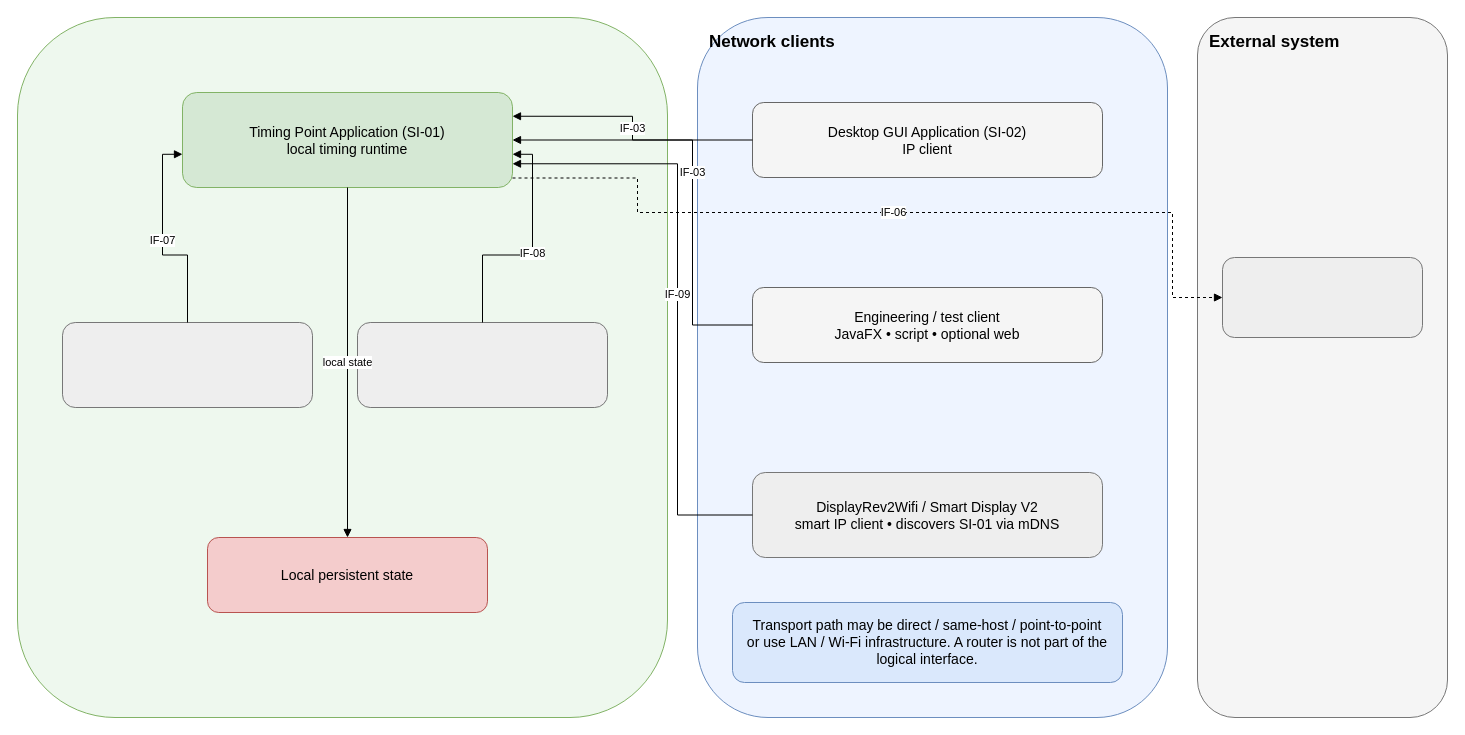
Some shapes in this 1465 by 735 pixel diagram are drawn without their labels. The shapes that lost their labels are listed below. From the top down, each one's box as (x1, y1, x2, y2) in pixels, then its label:
(1222, 256, 1422, 338): Backend system
(62, 322, 312, 408): RFID subsystem reader / antennas
(16, 16, 668, 718): Field timing system
(356, 322, 608, 408): CAN devices keypad + DisplayRev1Can
